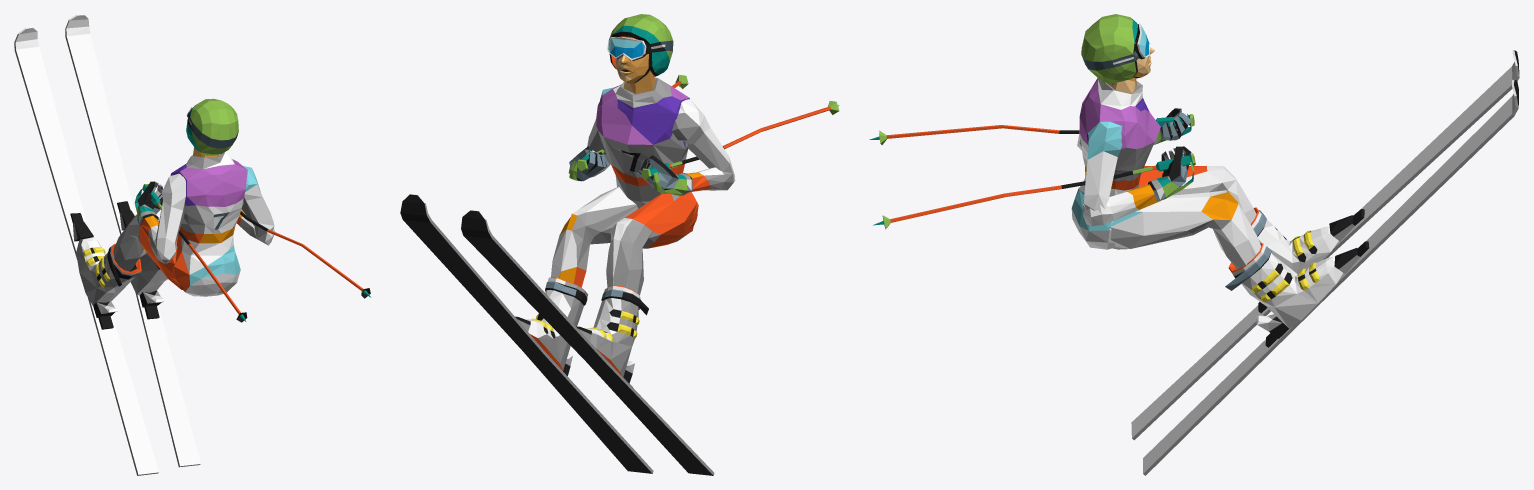
The model's file is skier.glb.
3 views of the same model, side by side, from view 1: azimuth 30°, elevation 25°; view 2: azimuth 150°, elevation 25°; view 3: azimuth 270°, elevation 25° (orthographic). The views are drawn at different scales.
Parts seen in each view (by area): view 1: group1024749857, group1126505564, group1622693884, group2032061265, group1526765313, group1812052774, group379169632, group1538282207, group1957457281, group557752555, group879022602, group1507658319 (+2 smaller); view 2: group1622693884, group1126505564, group1024749857, group379169632, group1996118965, group2032061265, group1957457281, group1812052774, group1526765313, group557752555, group879022602, group1970808768 (+3 smaller); view 3: group1126505564, group1024749857, group1996118965, group1622693884, group1957457281, group1526765313, group1538282207, group2032061265, group379169632, group584479271, group1507658319, group306099743 (+2 smaller).
Boxes of the visible parts, x1,y1,x2,y2 form: group1024749857: [14, 26, 158, 475]; group1126505564: [65, 14, 200, 467]; group1622693884: [170, 152, 247, 296]; group2032061265: [76, 237, 141, 305]; group1526765313: [186, 98, 238, 155]; group1812052774: [155, 173, 185, 255]; group379169632: [113, 214, 183, 289]; group1538282207: [241, 166, 274, 238]; group1957457281: [123, 230, 167, 295]; group557752555: [134, 181, 162, 225]; group879022602: [142, 184, 247, 322]; group1507658319: [240, 211, 371, 298]; group1622693884: [596, 77, 698, 242]; group1126505564: [400, 194, 653, 473]; group1024749857: [461, 210, 714, 475]; group379169632: [606, 193, 697, 295]; group1996118965: [551, 187, 637, 287]; group2032061265: [585, 285, 648, 376]; group1957457281: [526, 277, 588, 370]; group1812052774: [672, 99, 734, 174]; group1526765313: [609, 14, 673, 76]; group557752555: [636, 155, 692, 195]; group879022602: [641, 101, 839, 180]; group1970808768: [686, 167, 735, 192]; group1126505564: [1143, 79, 1518, 475]; group1024749857: [1131, 50, 1519, 440]; group1996118965: [1108, 190, 1260, 268]; group1622693884: [1071, 78, 1160, 249]; group1957457281: [1225, 243, 1342, 328]; group1526765313: [1081, 14, 1138, 83]; group1538282207: [1083, 121, 1122, 210]; group2032061265: [1250, 207, 1338, 273]; group379169632: [1138, 166, 1256, 223]; group584479271: [1082, 184, 1161, 226]; group1507658319: [873, 153, 1195, 229]; group306099743: [1148, 146, 1194, 201].
Bounding box in the file's own units: 1.92 × 5.02 × 6.45.
